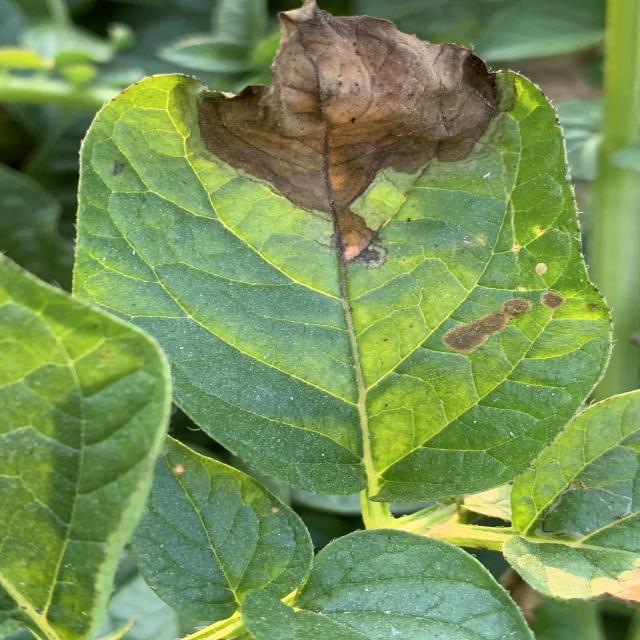lateblight: (198, 0, 498, 262), (443, 298, 532, 352), (540, 291, 565, 310)
